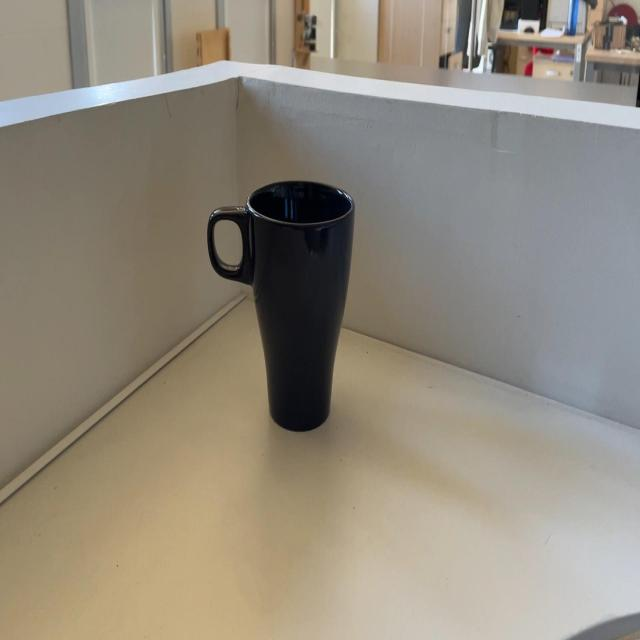cup: (208, 174, 356, 433)
